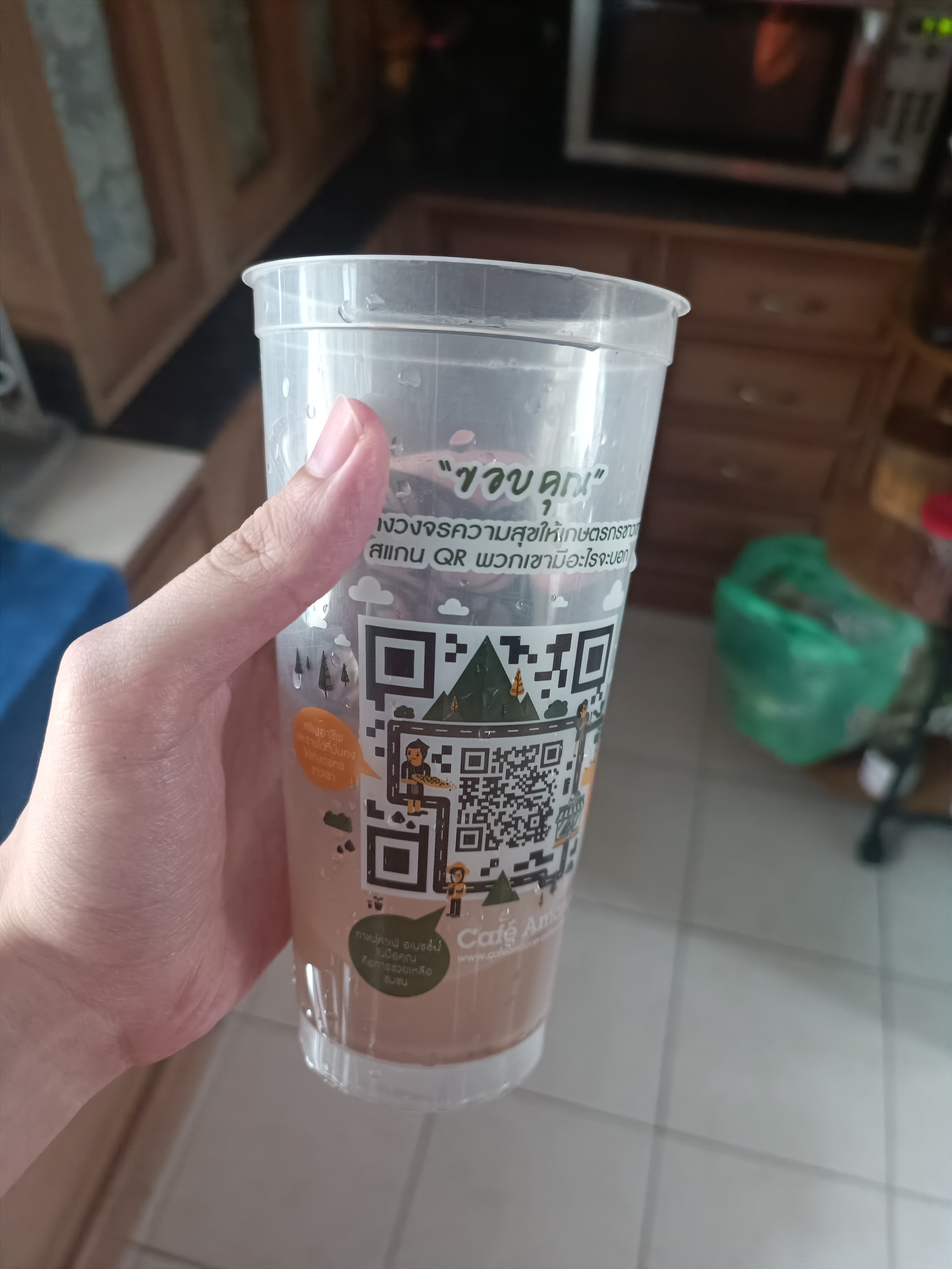plastic: (213, 232, 705, 1127)
